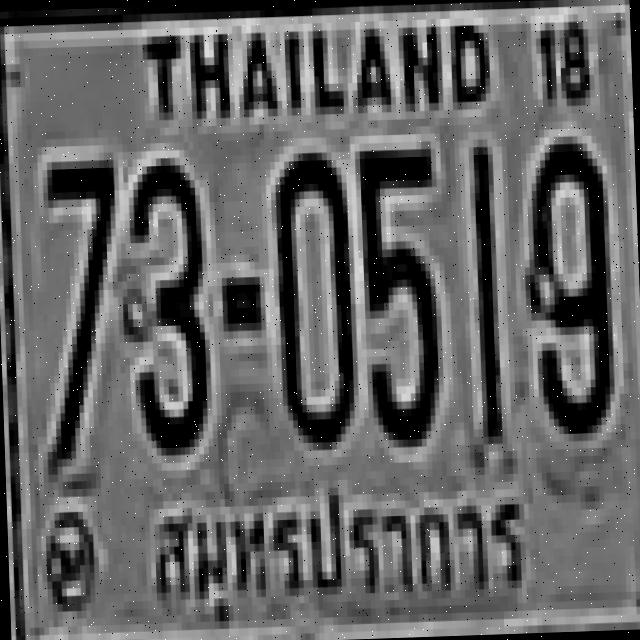0: (269, 144, 355, 443)
1: (466, 142, 500, 440)
3: (118, 156, 208, 448)
5: (357, 142, 438, 440)
7: (39, 152, 121, 459), (42, 152, 118, 436), (41, 152, 116, 368)
9: (520, 135, 611, 427)
SamutPrakan: (135, 470, 542, 631)
